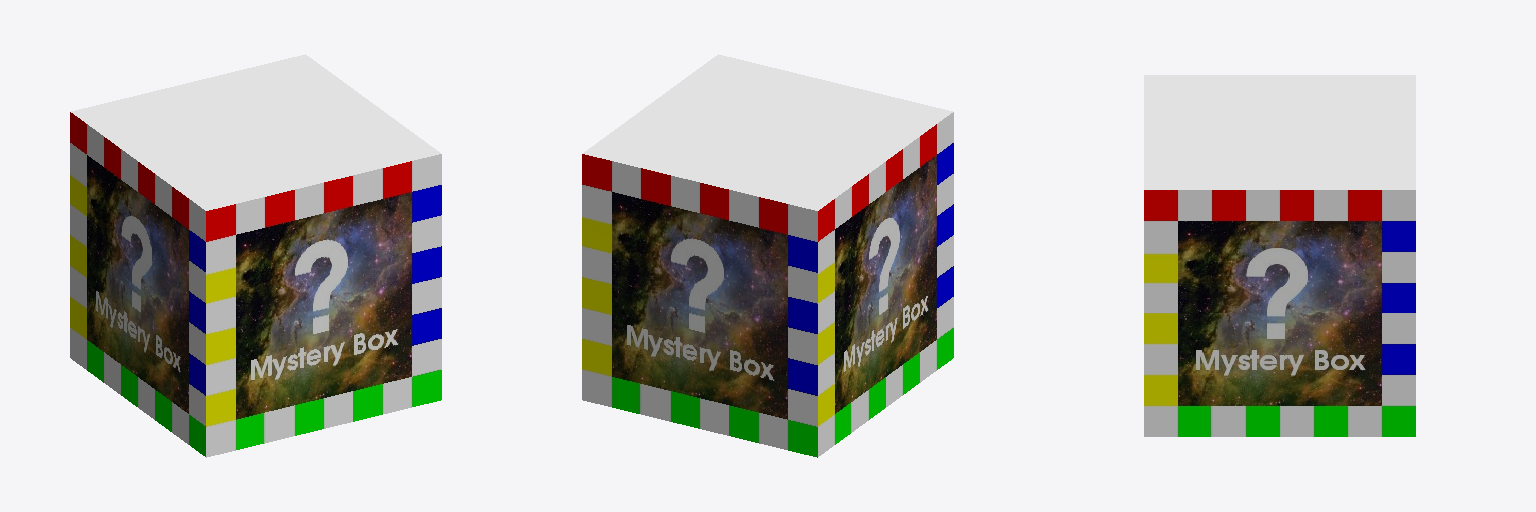
3 views of the same model, side by side, from view 1: azimuth 30°, elevation 25°; view 2: azimuth 150°, elevation 25°; view 3: azimuth 270°, elevation 25° (orthographic).
Visible parts, largest first — view 1: cube1; view 2: cube1; view 3: cube1.
Boxes of the visible parts, x1,y1,x2,y2 form: cube1: [70, 54, 441, 457]; cube1: [582, 54, 953, 457]; cube1: [1144, 75, 1415, 436].
Size of the model in its own units: 2 by 2 by 2.
2 materials, 1 textured.